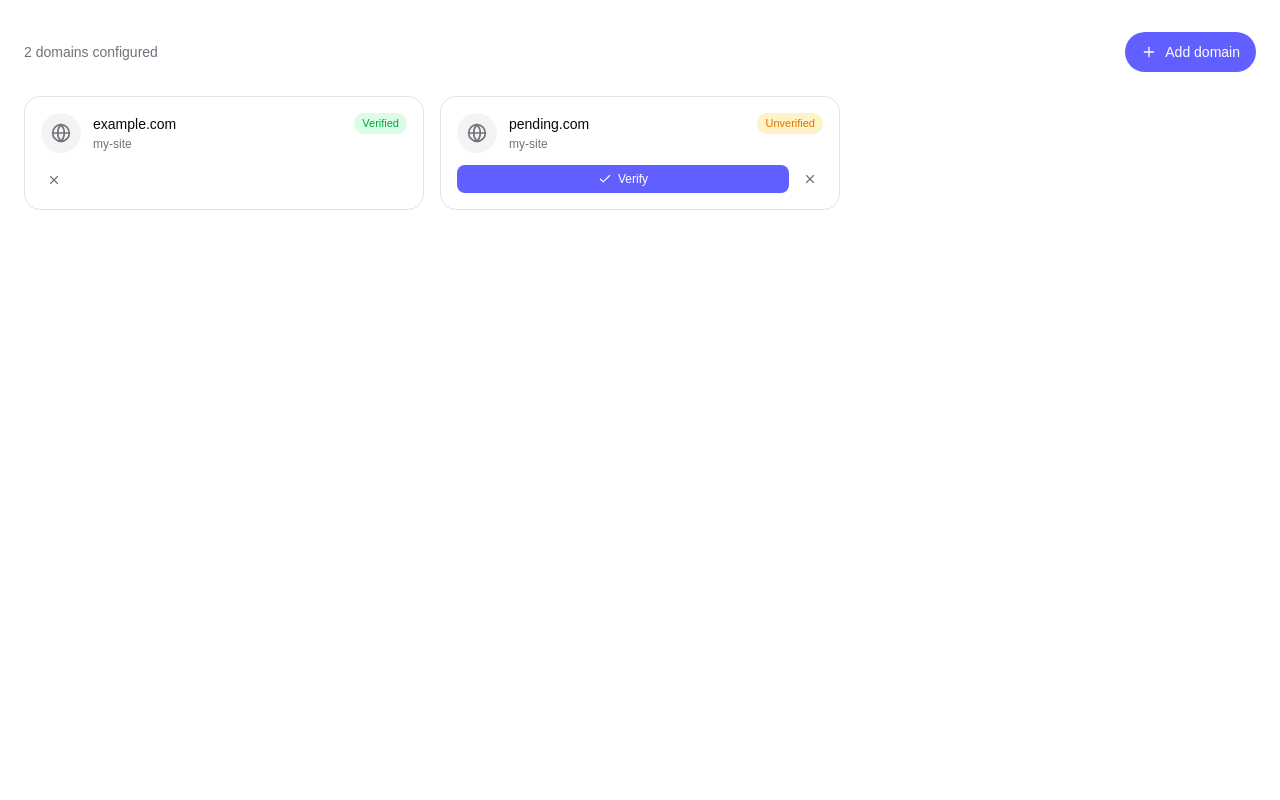
Test: DomainsSection › opens the add domain modal from the header button
Click the button "Add domain". click: (1191, 52)
box: [1125, 32, 1256, 72]
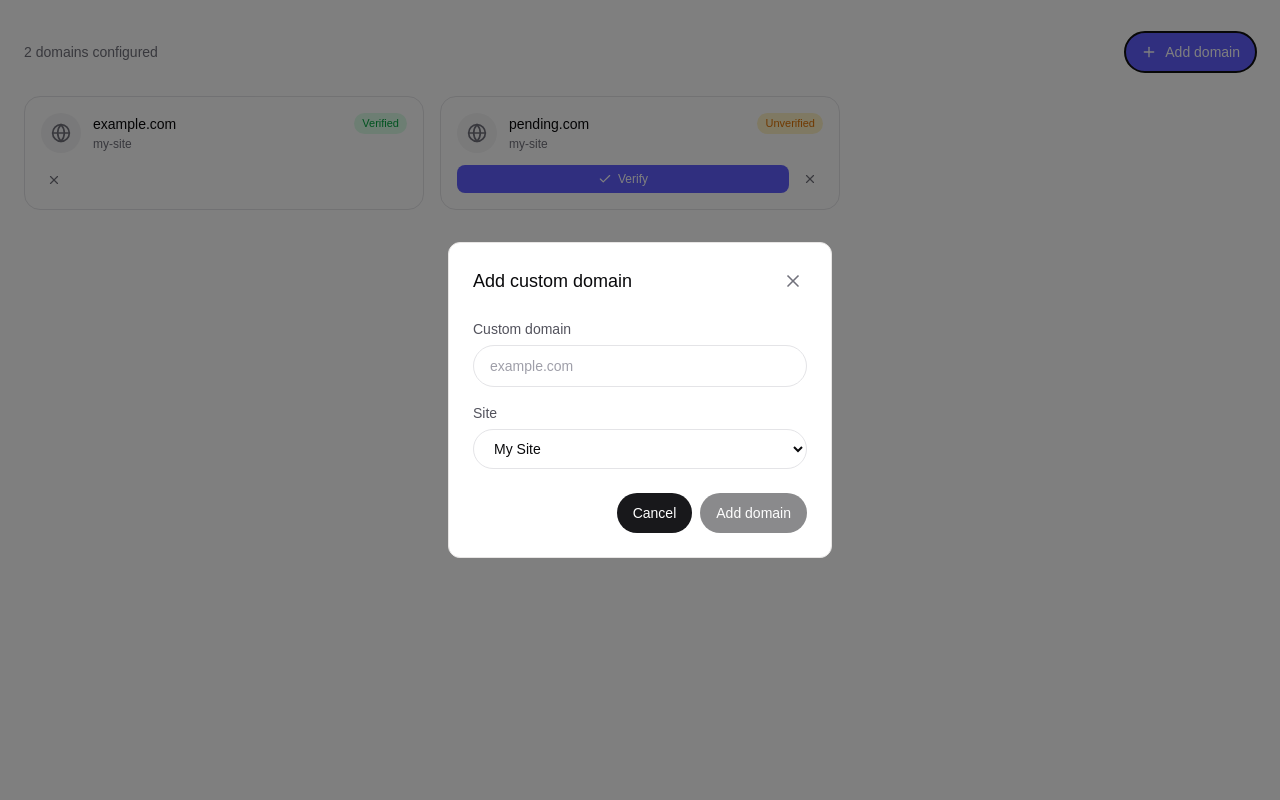
Result: the heading "Add custom domain" is shown at [473, 267, 632, 295]
